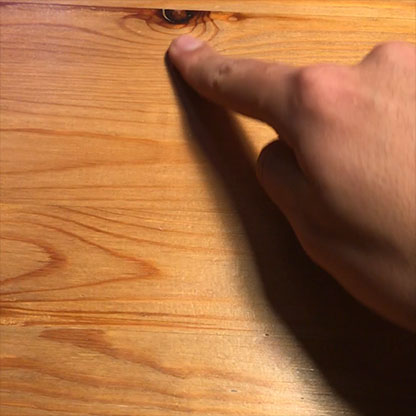fingertip: (164, 27, 216, 69)
